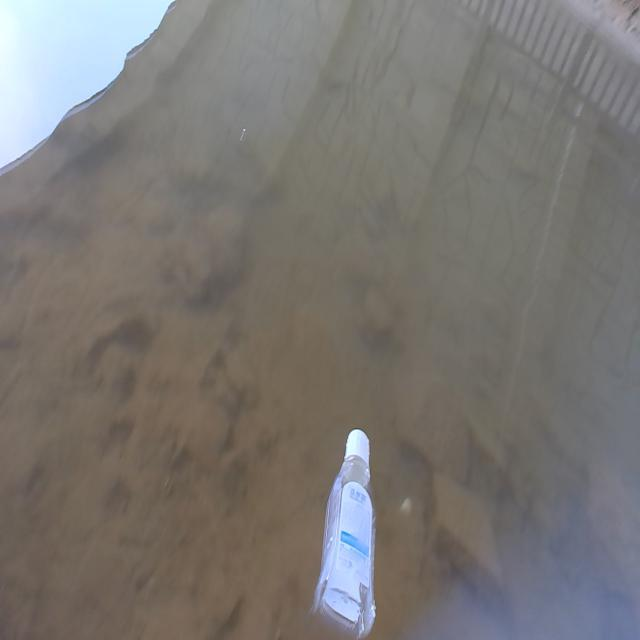bottle: (289, 376, 401, 640)
